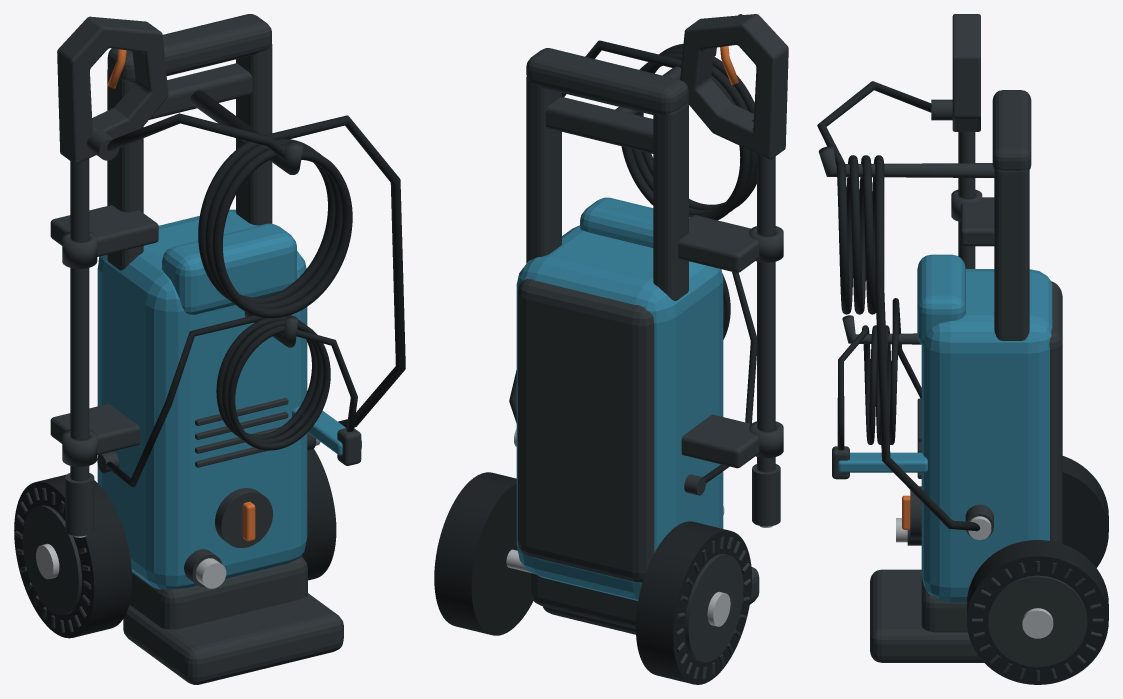
3 views of the same model, side by side, from view 1: azimuth 30°, elevation 25°; view 2: azimuth 150°, elevation 25°; view 3: azimuth 270°, elevation 25° (orthographic). The views are drawn at different scales.
Visible parts, largest first — view 1: Closed pump motor housing, Continuous stored high pressure hose, Grounded front standing foot, Stored trigger gun solid ring with open guard, Continuous stored power lead, Grounded wheel tire -1, Upper body control pod, Lower body foot bridge, Stored lance main barrel, Upper carry cross grip, Tall carry handle upright 1, Wheel inset hub -1 (+16 smaller); view 2: Rear closed housing panel, Closed pump motor housing, Grounded wheel tire 1, Stored trigger gun solid ring with open guard, Grounded wheel tire -1, Upper carry cross grip, Tall carry handle upright -1, Tall carry handle upright 1, Continuous stored high pressure hose, Stored lance main barrel, Wheel inset hub -1, Hose hook structural cross mount (+10 smaller); view 3: Closed pump motor housing, Continuous stored high pressure hose, Grounded wheel tire 1, Wheel inset hub 1, Grounded front standing foot, Tall carry handle upright 1, Continuous stored power lead, Grounded wheel tire -1, Upper body control pod, Stored trigger gun solid ring with open guard, Rear closed housing panel, Upper carry cross grip (+10 smaller).
Boxes of the visible parts, left/top/right/bottom form: Closed pump motor housing: left=97, top=209, right=307, bottom=589; Continuous stored high pressure hose: left=107, top=113, right=405, bottom=427; Grounded front standing foot: left=123, top=593, right=343, bottom=684; Stored trigger gun solid ring with open guard: left=57, top=16, right=168, bottom=164; Continuous stored power lead: left=106, top=315, right=357, bottom=487; Grounded wheel tire -1: left=14, top=474, right=131, bottom=638; Upper body control pod: left=162, top=223, right=296, bottom=314; Lower body foot bridge: left=129, top=556, right=307, bottom=629; Stored lance main barrel: left=70, top=158, right=89, bottom=481; Upper carry cross grip: left=107, top=14, right=271, bottom=82; Tall carry handle upright 1: left=236, top=42, right=272, bottom=225; Wheel inset hub -1: left=22, top=505, right=82, bottom=615; Rear closed housing panel: left=517, top=279, right=654, bottom=582; Closed pump motor housing: left=516, top=225, right=723, bottom=600; Grounded wheel tire 1: left=434, top=472, right=533, bottom=635; Stored trigger gun solid ring with open guard: left=680, top=14, right=788, bottom=159; Grounded wheel tire -1: left=635, top=521, right=751, bottom=684; Upper carry cross grip: left=526, top=48, right=688, bottom=115; Tall carry handle upright -1: left=653, top=101, right=688, bottom=300; Tall carry handle upright 1: left=526, top=77, right=561, bottom=263; Continuous stored high pressure hose: left=509, top=14, right=756, bottom=422; Stored lance main barrel: left=757, top=154, right=775, bottom=472; Wheel inset hub -1: left=685, top=553, right=743, bottom=662; Hose hook structural cross mount: left=545, top=96, right=653, bottom=153; Closed pump motor housing: left=921, top=269, right=1052, bottom=602; Continuous stored high pressure hose: left=817, top=81, right=980, bottom=531; Grounded wheel tire 1: left=967, top=540, right=1108, bottom=684; Wheel inset hub 1: left=988, top=575, right=1087, bottom=667; Grounded front standing foot: left=870, top=569, right=983, bottom=662; Tall carry handle upright 1: left=994, top=169, right=1029, bottom=340; Continuous stored power lead: left=837, top=298, right=921, bottom=450; Grounded wheel tire -1: left=1062, top=456, right=1108, bottom=567; Upper body control pod: left=917, top=254, right=965, bottom=344; Stored trigger gun solid ring with open guard: left=952, top=14, right=980, bottom=131; Rear closed housing panel: left=1049, top=281, right=1062, bottom=543; Upper carry cross grip: left=992, top=90, right=1031, bottom=170.
Bounding box in the file's own units: 46.89 × 96.9 × 45.19.
